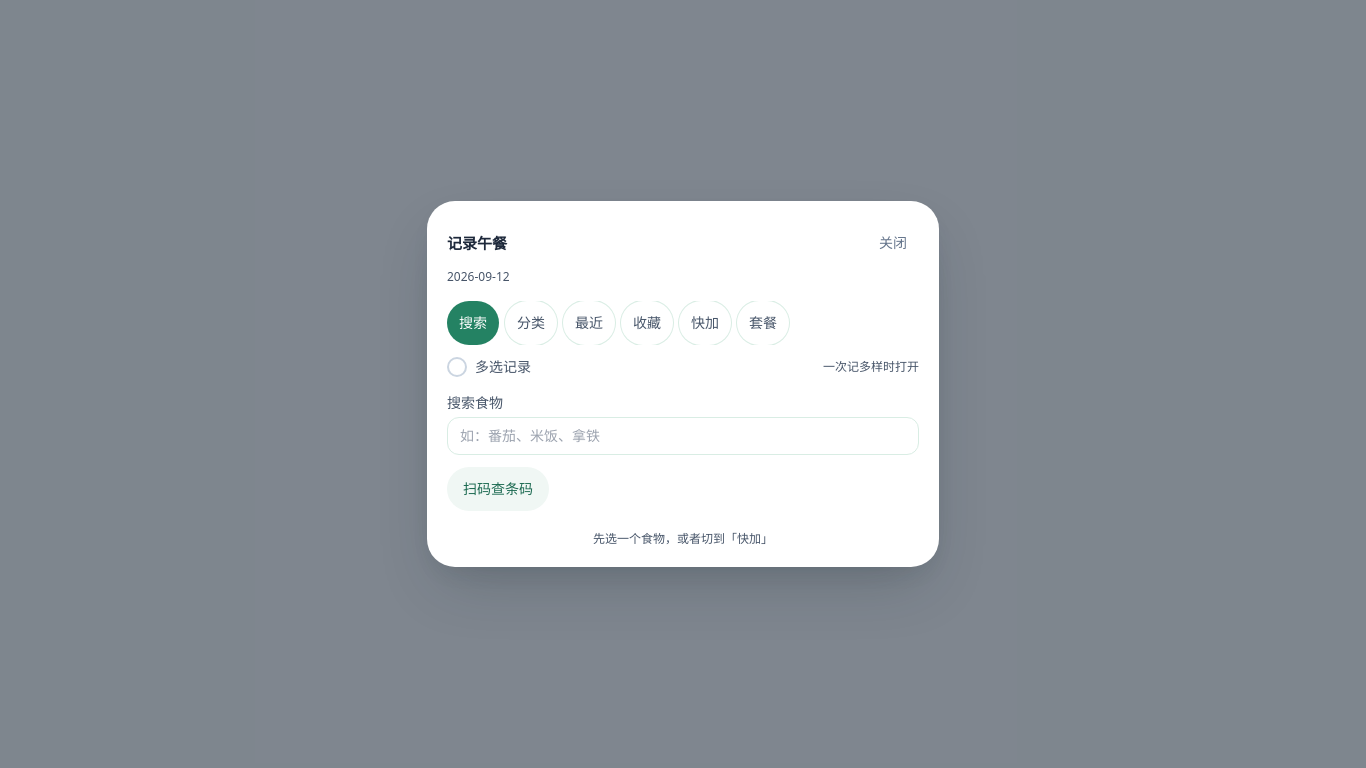
Scenario: 搜索排序（阶段 2.2）：按服务端相关度顺序渲染，前端不重排 › 文案中性：搜索区不出现「推荐 / 更健康 / 低卡」这类变相营养建议词
Step 1. Type "蘑菇" into the field labelled "搜索食物" → (683, 436), box [447,417,919,455]
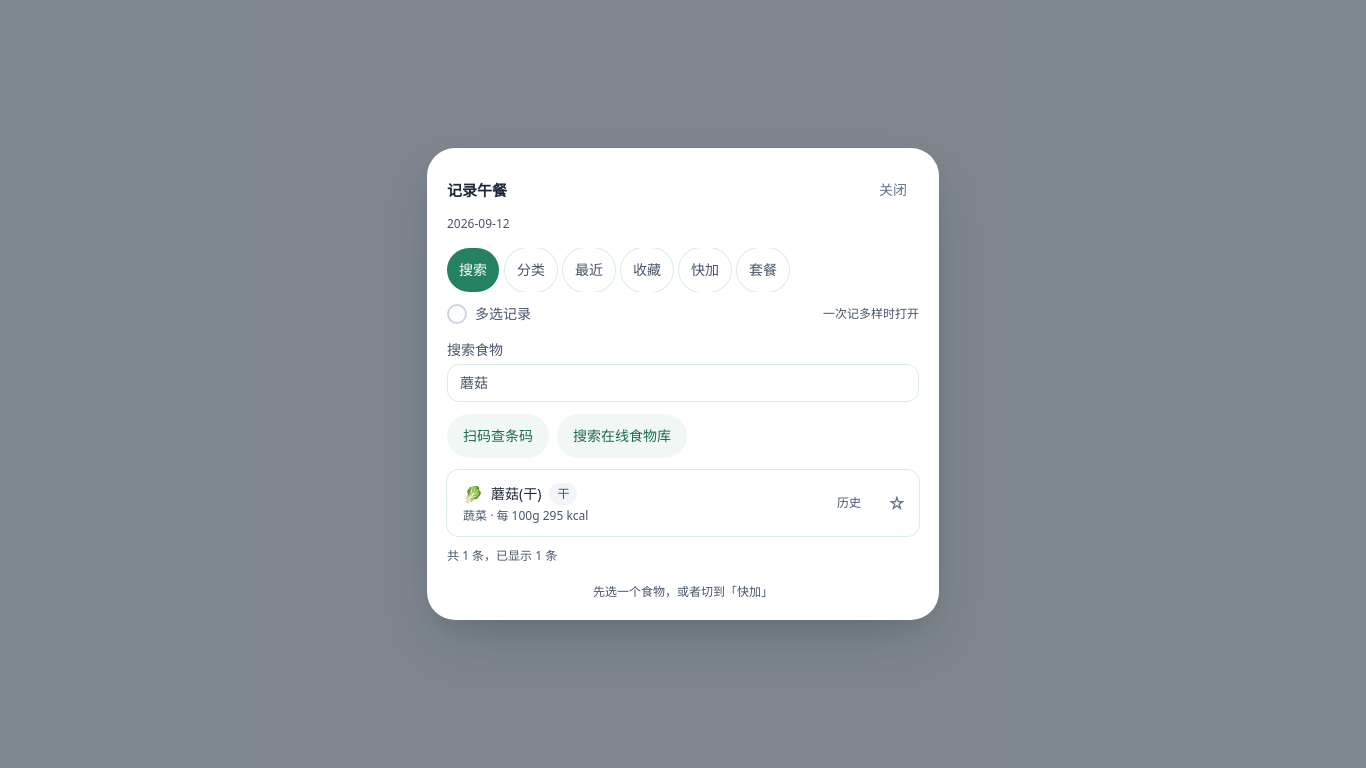
Result: the text "共 1 条，已显示 1 条" is shown at [447,548,557,564]
